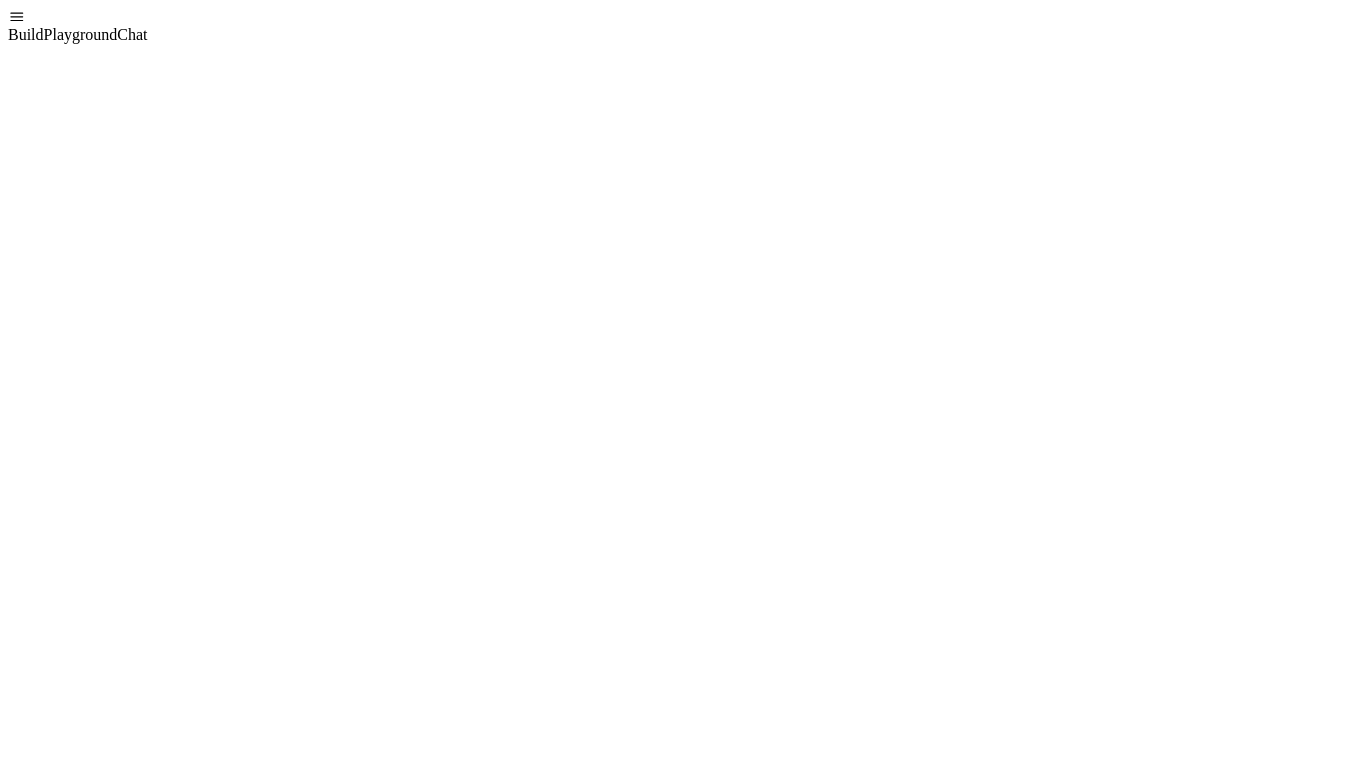
Test: NavBar › closes the menu when the page changes from inside it
The image size is (1366, 768).
Click the button named "Show Site navigation" at [17, 17], box x1=8 y1=8 x2=26 y2=26
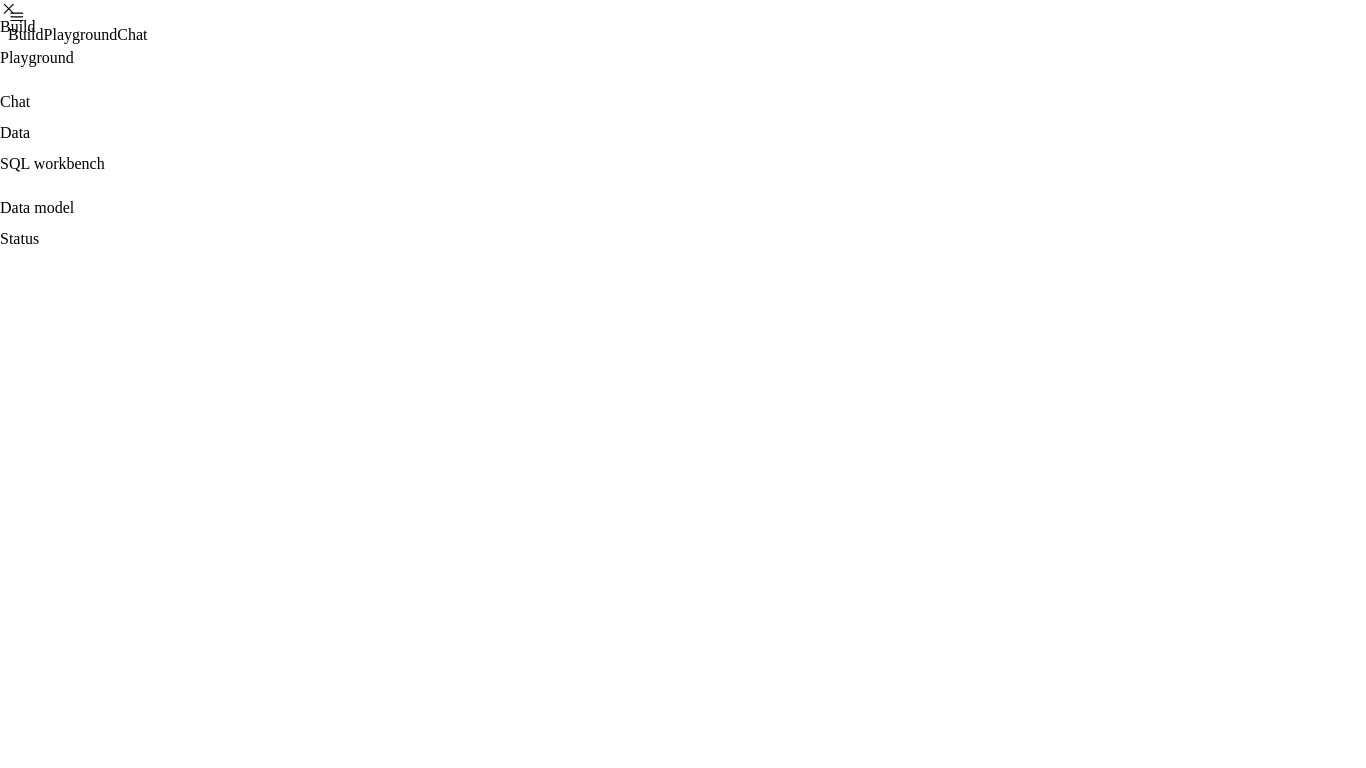
Expected: the dialog is shown, x1=0 y1=0 x2=1365 y2=247
